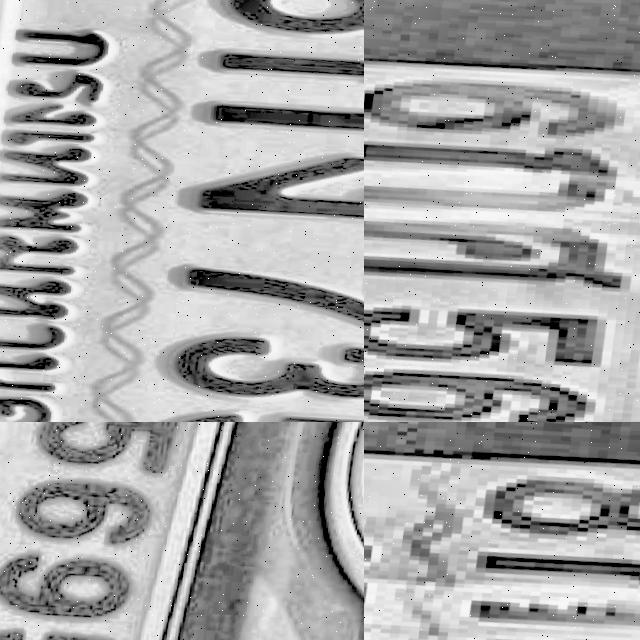license-plate: (0, 0, 364, 422), (364, 0, 640, 422), (0, 422, 337, 640), (364, 422, 640, 640)
